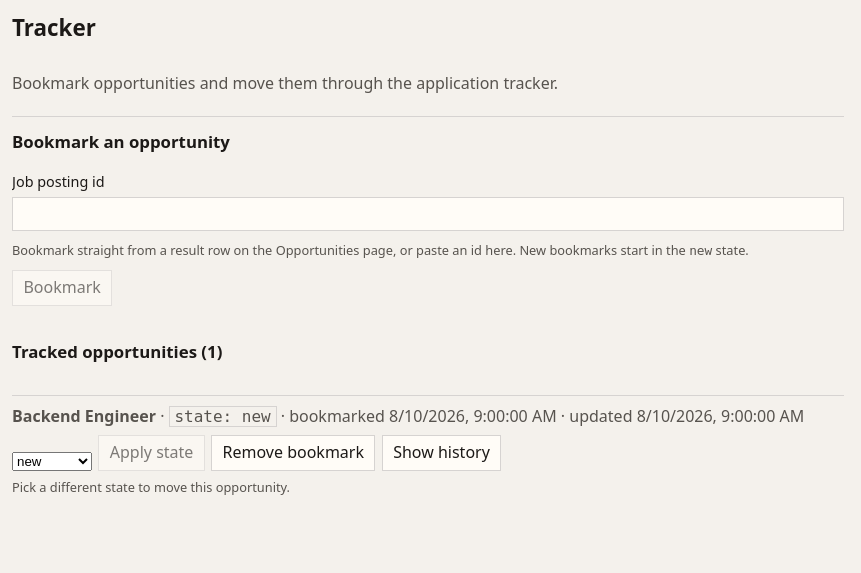
Test: TrackerPage › sends a correlation id and applies the state the server returns
Expected: the button "Remove bookmark" is enabled, [211, 435, 375, 471]
Select "review" in the dropdown named "Next state for Backend Engineer" at (52, 462), box [12, 452, 92, 471]
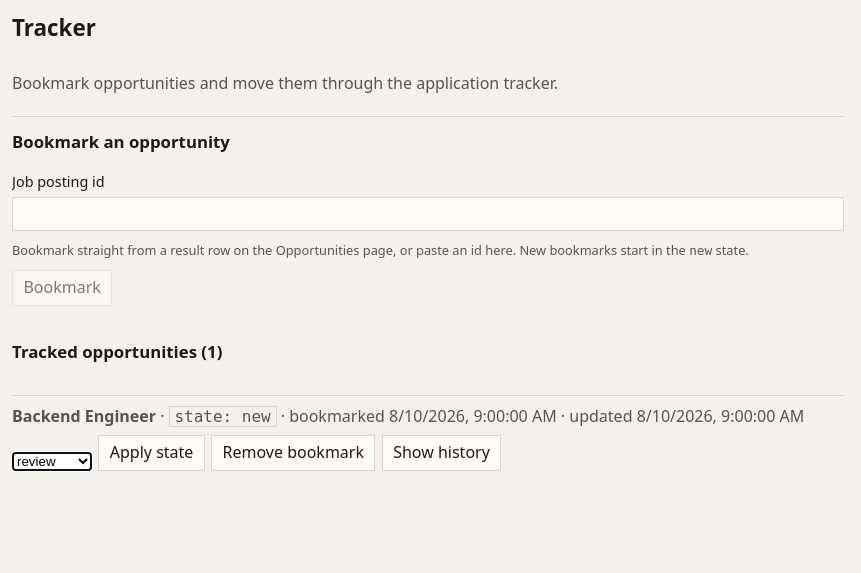
Click the button "Apply state" at (152, 453), box [98, 435, 205, 471]
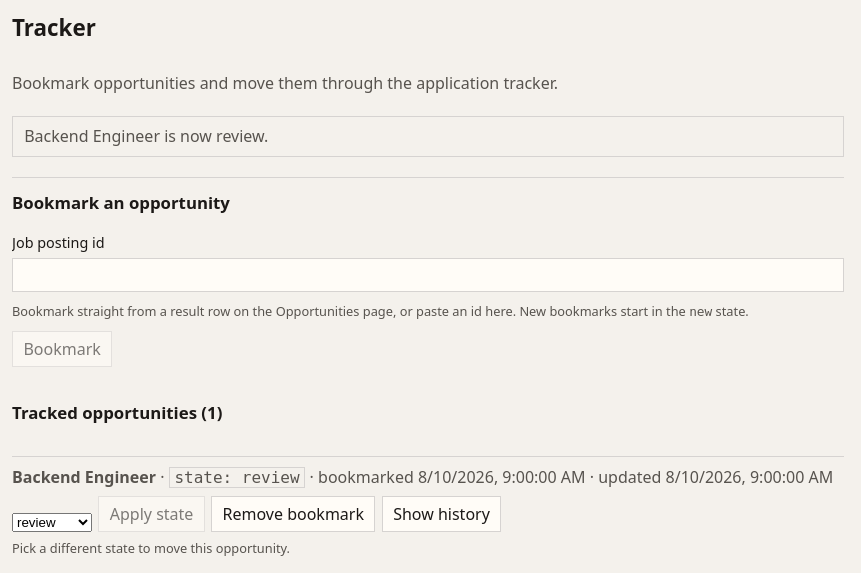
Result: the text "state: review" is shown at [169, 467, 305, 488]
